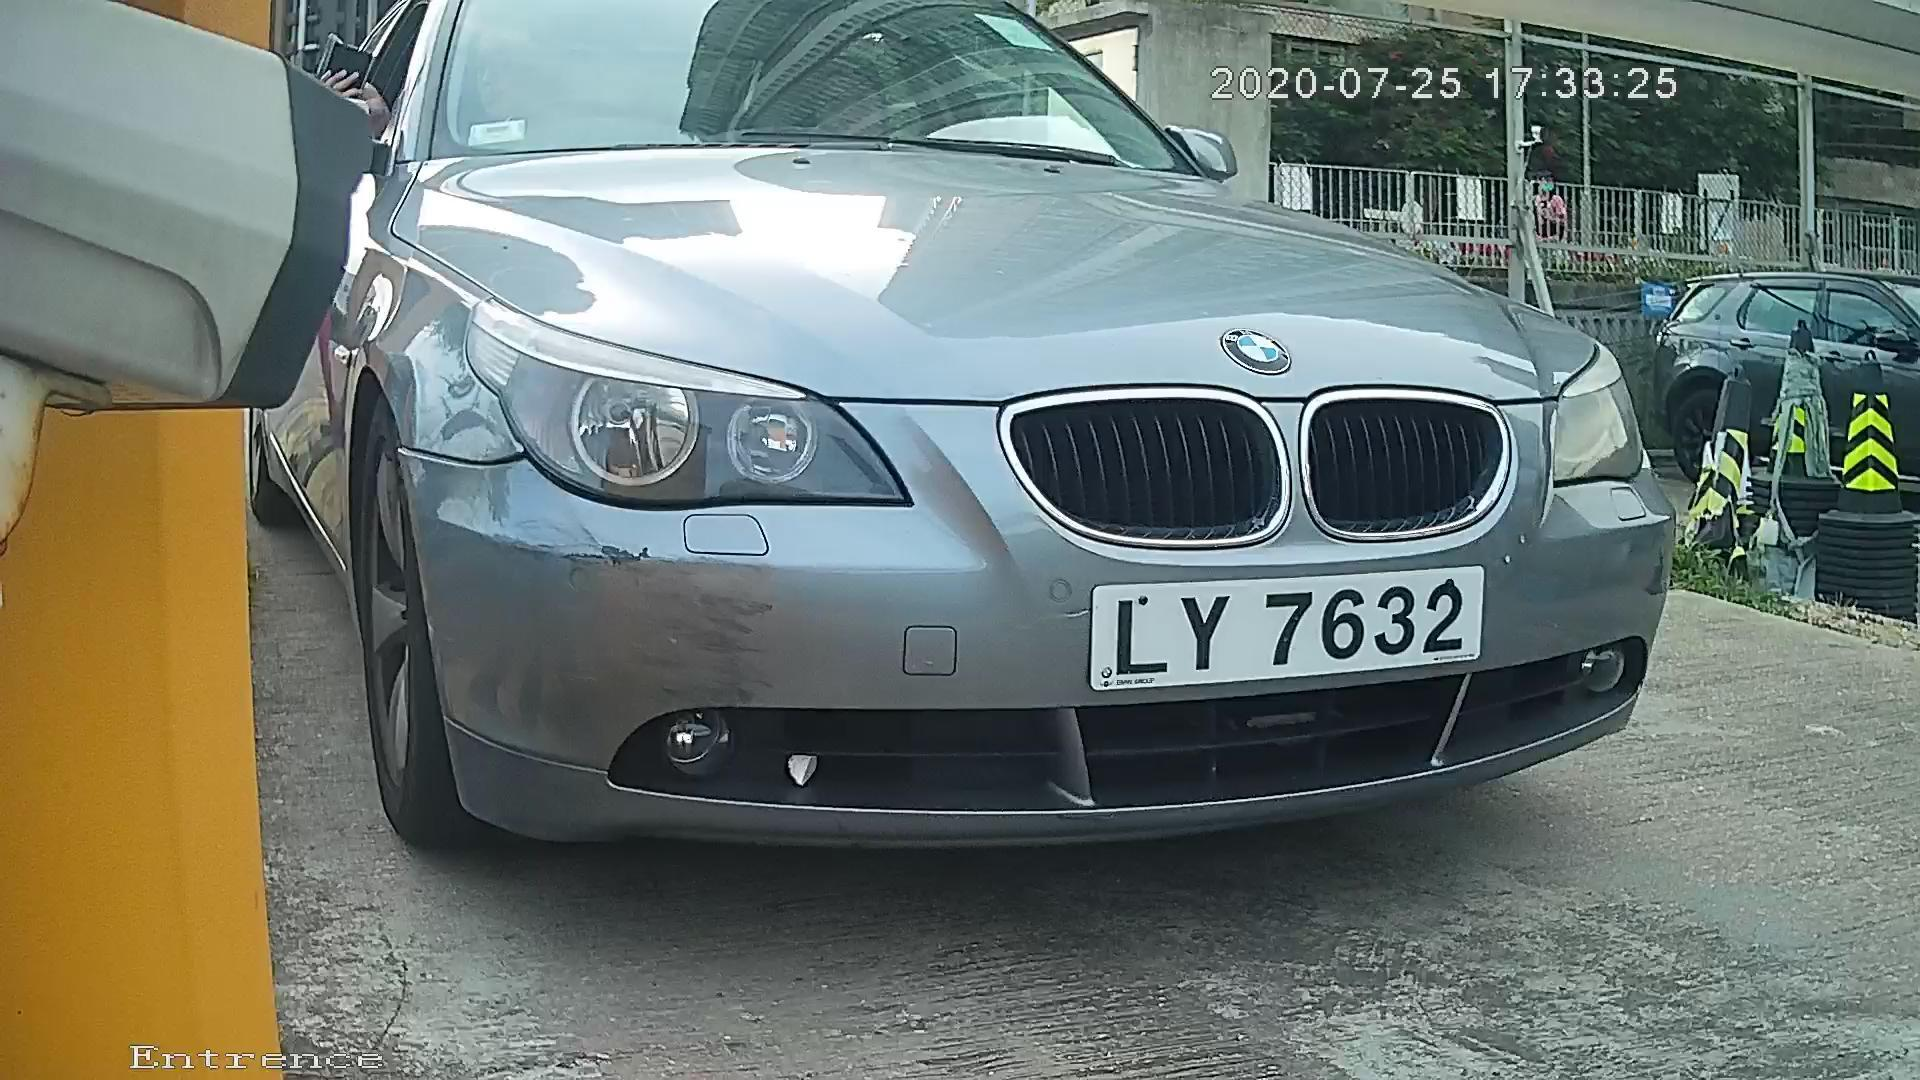privatecar: (258, 58, 1818, 891)
